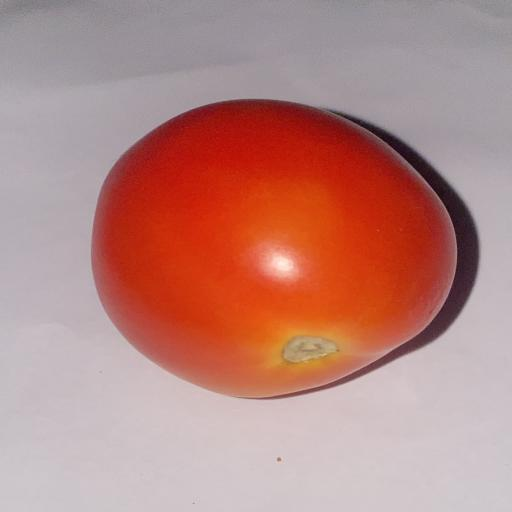ripe: (92, 100, 456, 397)
